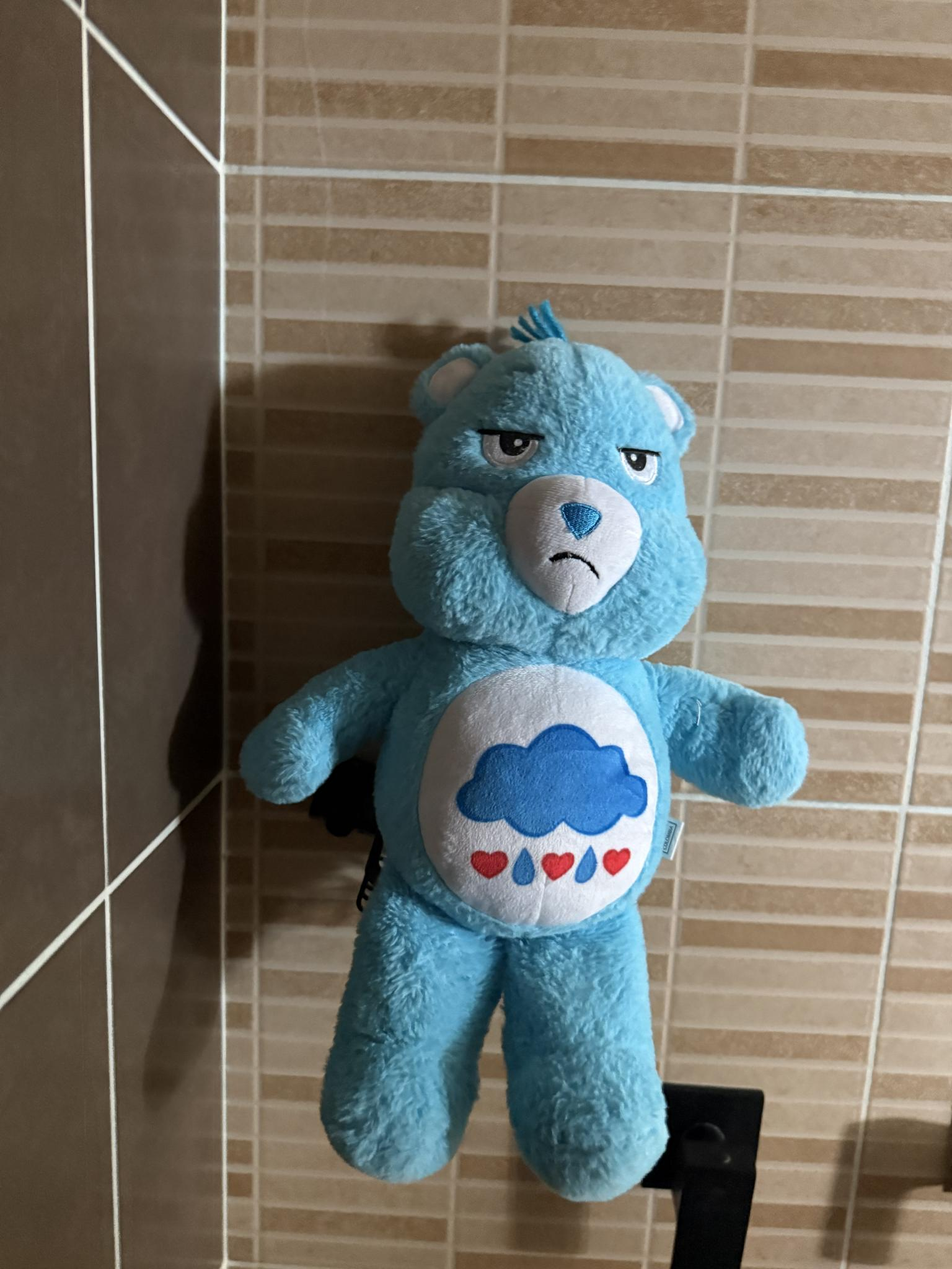peluche_Juan Jose: (304, 331, 776, 1195)
